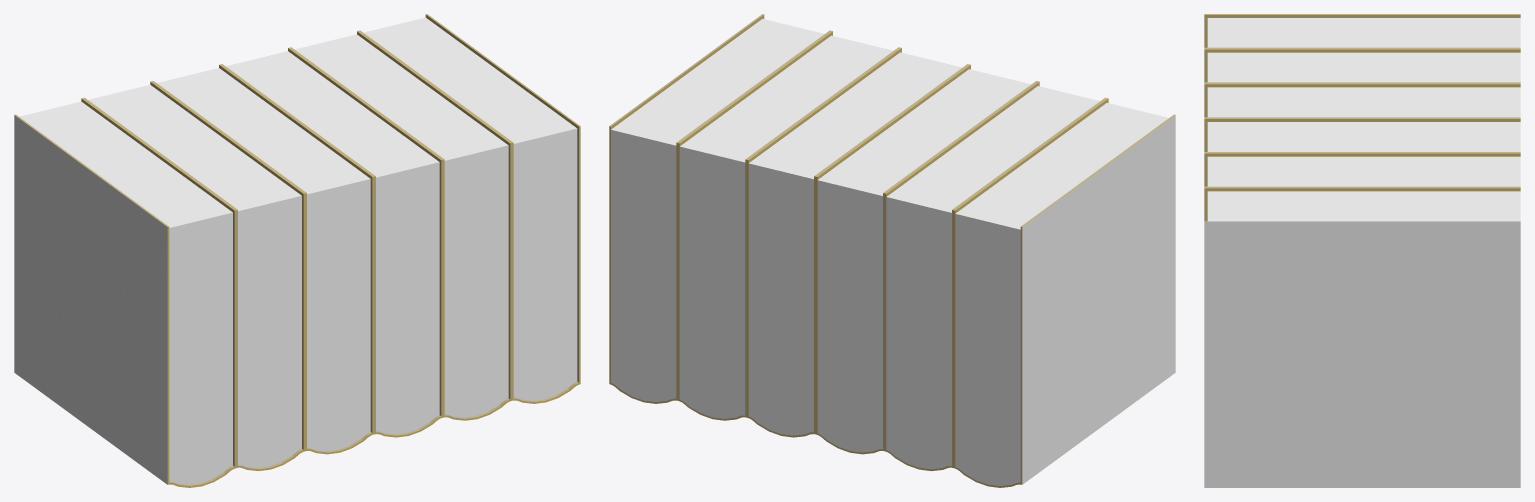
3 views of the same model, side by side, from view 1: azimuth 30°, elevation 25°; view 2: azimuth 150°, elevation 25°; view 3: azimuth 270°, elevation 25° (orthographic). The views are drawn at different scales.
Parts seen in each view (by area): view 1: leather bound books yellow; view 2: leather bound books yellow; view 3: leather bound books yellow.
Part boxes in pixels (x1,y1,x2,y2): leather bound books yellow: (14, 14, 580, 487); leather bound books yellow: (609, 14, 1175, 487); leather bound books yellow: (1204, 14, 1520, 487).
Bounding box in the file's own units: 16.54 × 10.24 × 10.63.
